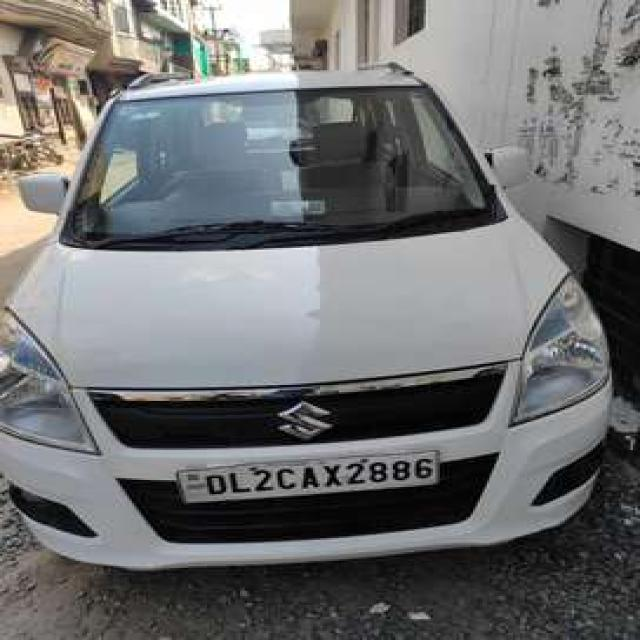license_plate: (156, 447, 464, 509)
